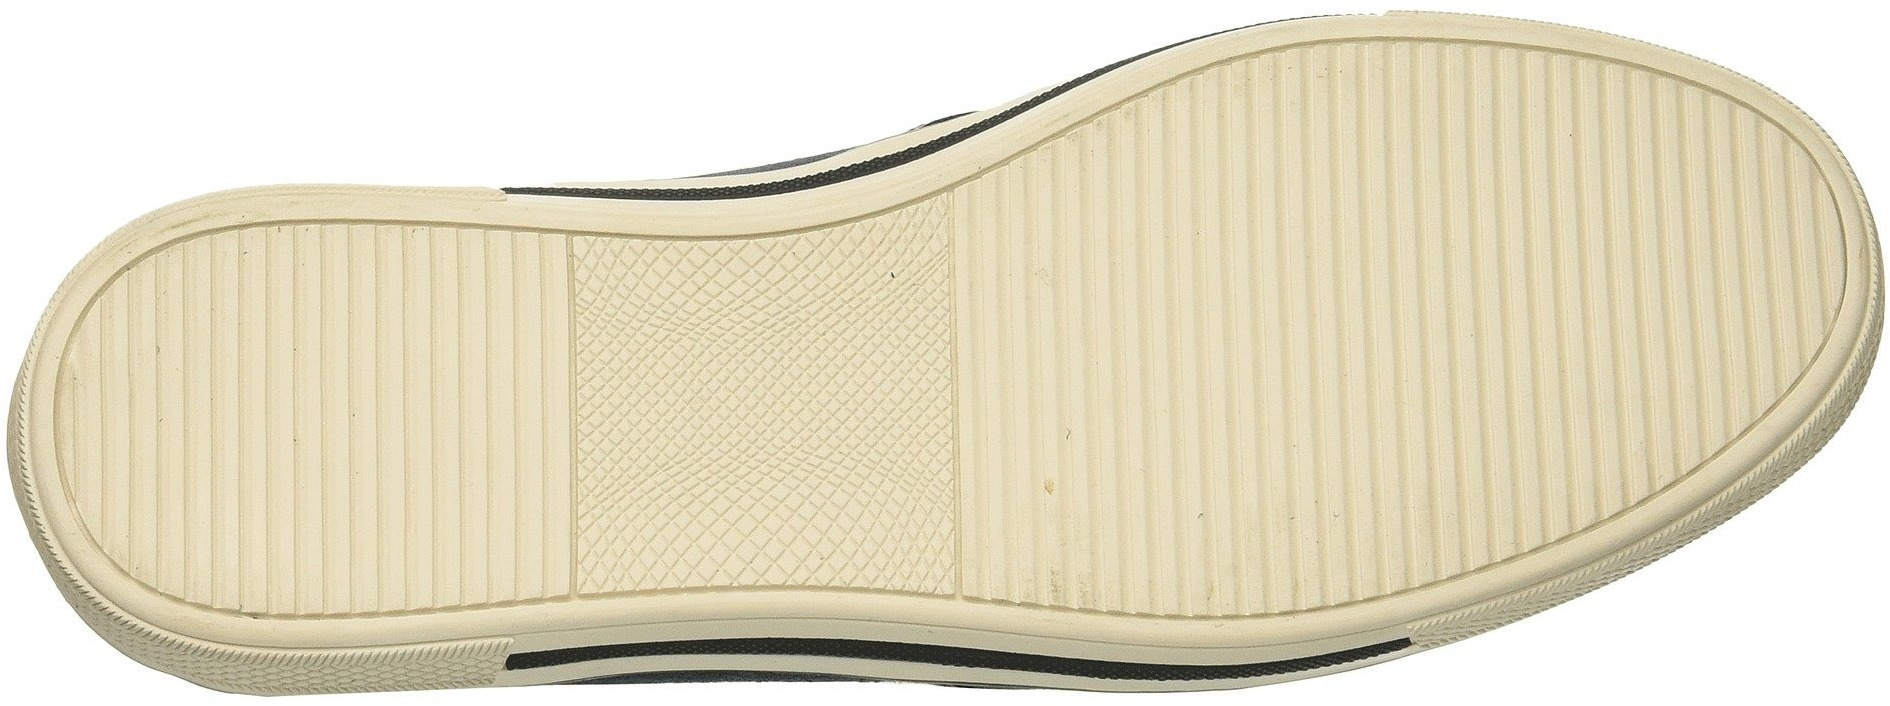line: (959, 194, 1351, 595), (221, 273, 436, 500), (1622, 76, 1832, 304), (1381, 158, 1587, 384), (99, 380, 212, 508)
quad: (1336, 86, 1686, 480), (113, 280, 569, 563), (579, 277, 957, 589)
